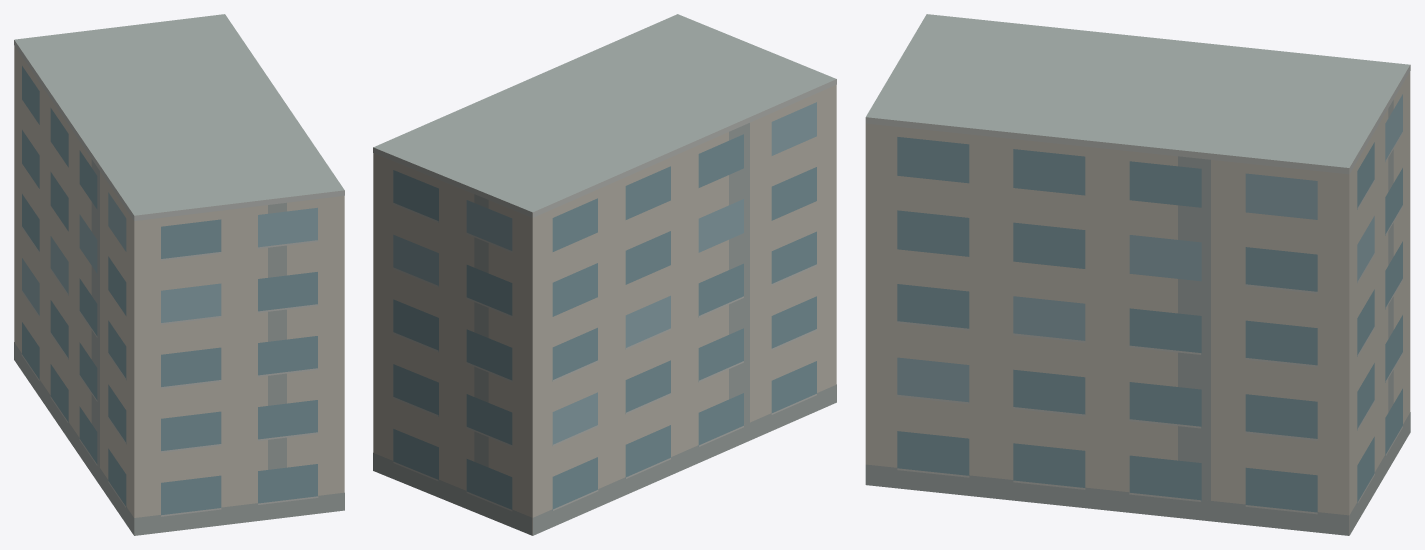
File: survey-upis-33029771.glb
3 views of the same model, side by side, from view 1: azimuth 30°, elevation 25°; view 2: azimuth 150°, elevation 25°; view 3: azimuth 270°, elevation 25° (orthographic). The views are drawn at different scales.
Parts seen in each view (by area): view 1: survey-upis-33029771.tmp; view 2: survey-upis-33029771.tmp; view 3: survey-upis-33029771.tmp.
Part boxes in pixels (left/top/right/bottom): survey-upis-33029771.tmp: left=14, top=14, right=344, bottom=535; survey-upis-33029771.tmp: left=373, top=14, right=836, bottom=535; survey-upis-33029771.tmp: left=865, top=14, right=1410, bottom=535.
Bounding box in the file's own units: 12.85 × 14.3 × 19.2.
